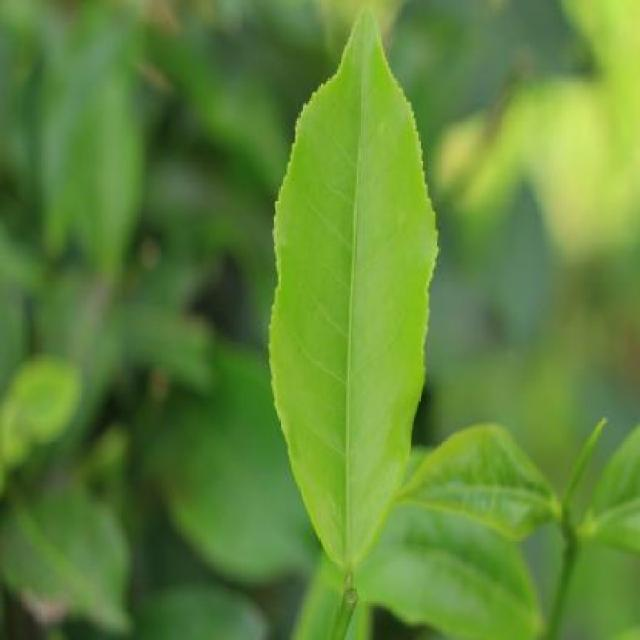Tea leaf: (268, 0, 437, 565)
